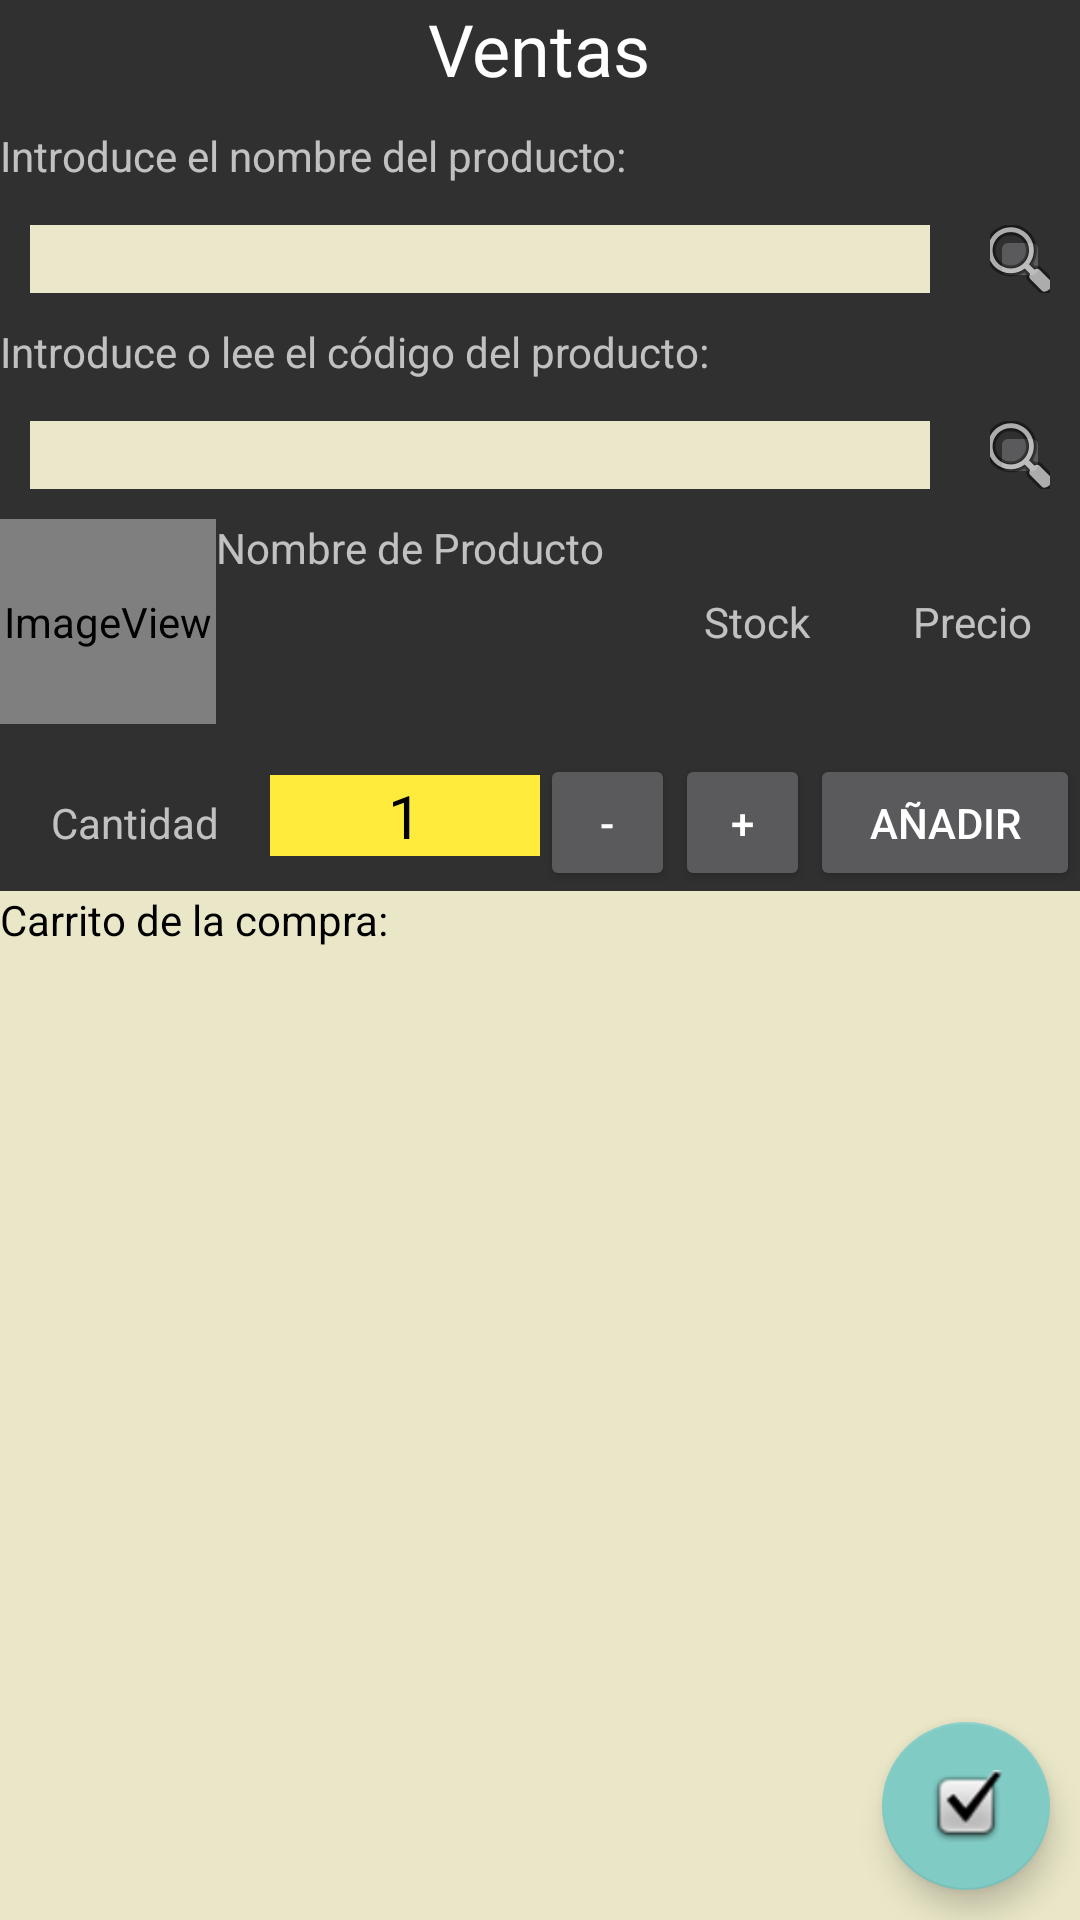

Icon click points for this 1080x1920 phone screenshot, format [x,y]:
search: [1020,259], [1020,455]
